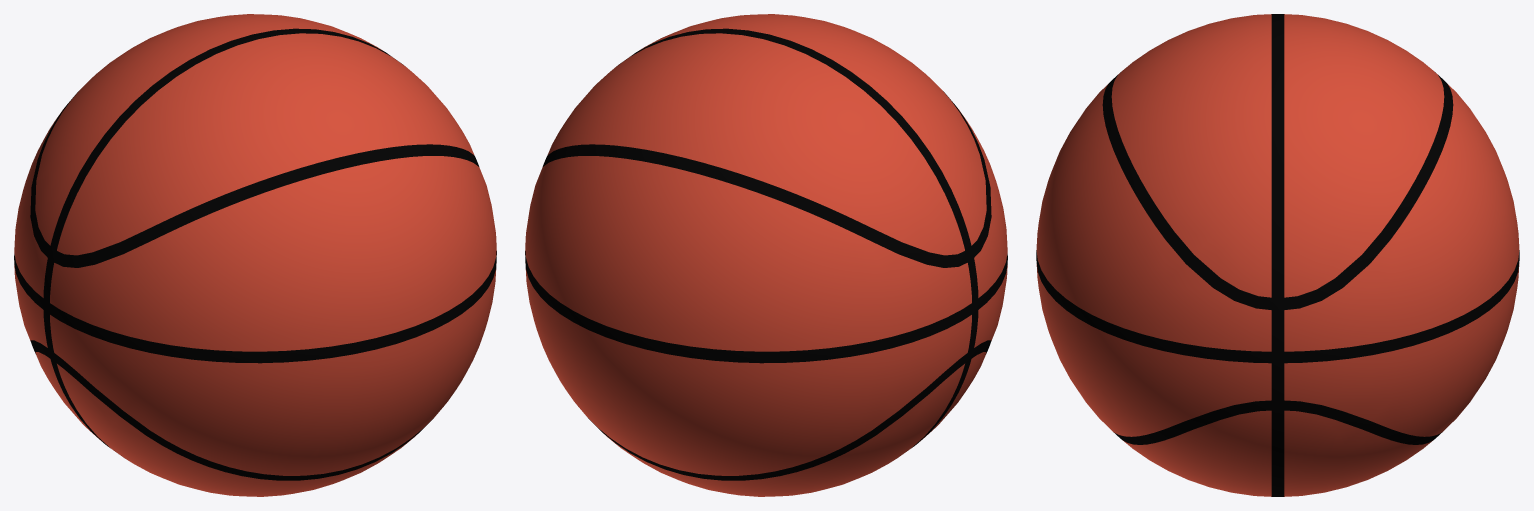
Rendered from basketball.fbx.
3 renders of one model, left to right at view 1: azimuth 30°, elevation 25°; view 2: azimuth 150°, elevation 25°; view 3: azimuth 270°, elevation 25°, orthographic.
Visible parts, largest first — view 1: basketball; view 2: basketball; view 3: basketball.
Part boxes in pixels (x1,y1,x2,y2): basketball: (14, 14, 496, 496); basketball: (525, 14, 1007, 496); basketball: (1036, 14, 1519, 496).
Bounding box in the file's own units: 36.91 × 36.93 × 36.93.
